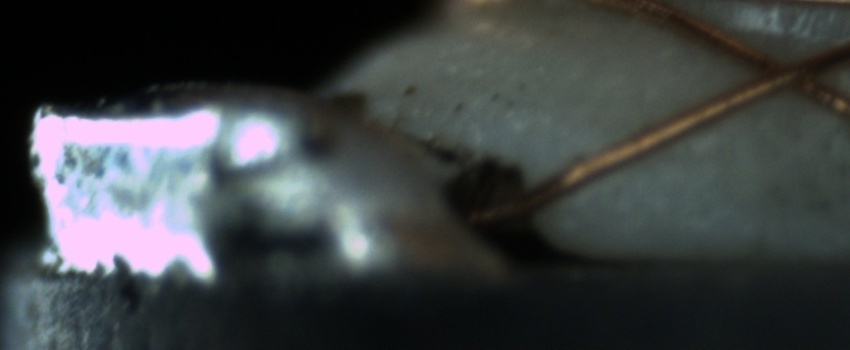CL: (728, 39, 835, 107)
